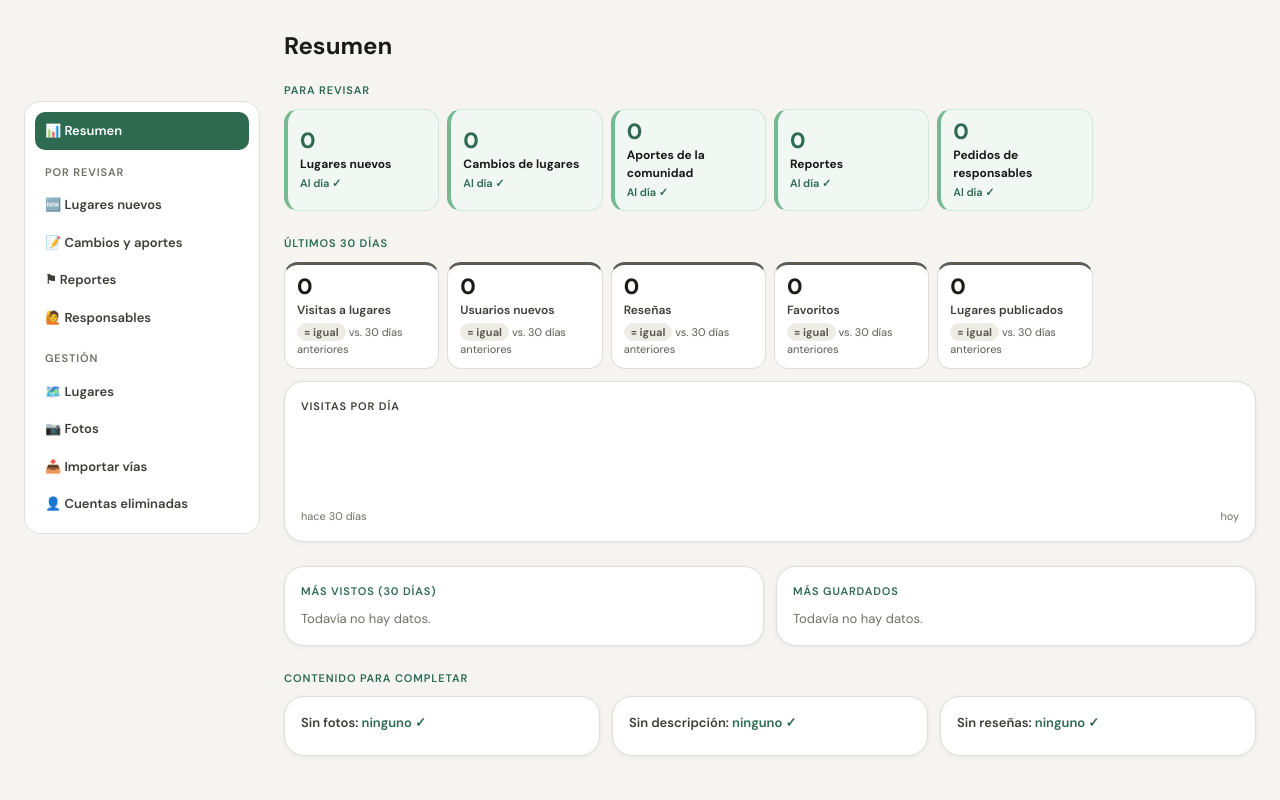
Test: Panel de admin: si una acción falla, se dice (antes la pantalla mostraba el cambio igual) › aprobar anda: pasa a aprobado, sin aviso
The image size is (1280, 800).
Click the button "🆕 Lugares nuevos": x=142, y=205 [35,186,249,224]
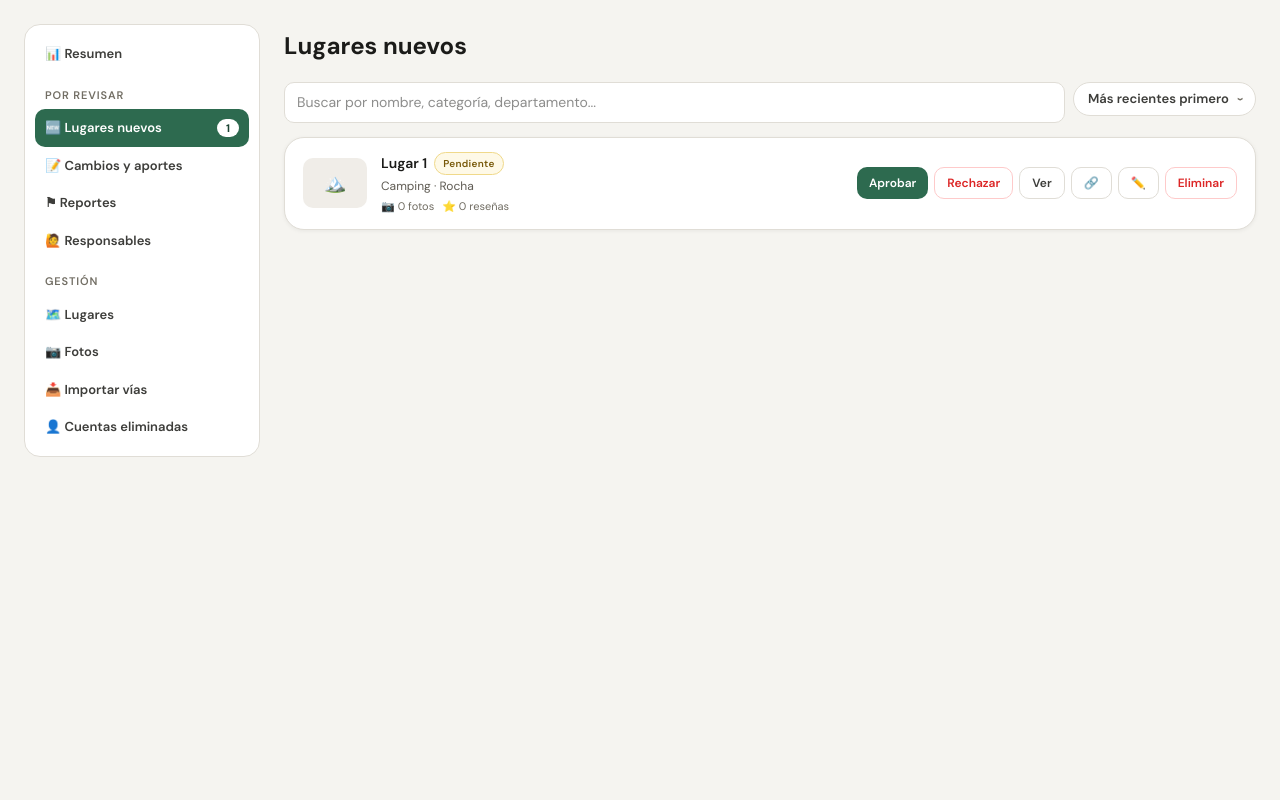
Click the button "Aprobar": x=893, y=183 [857,167,928,199]
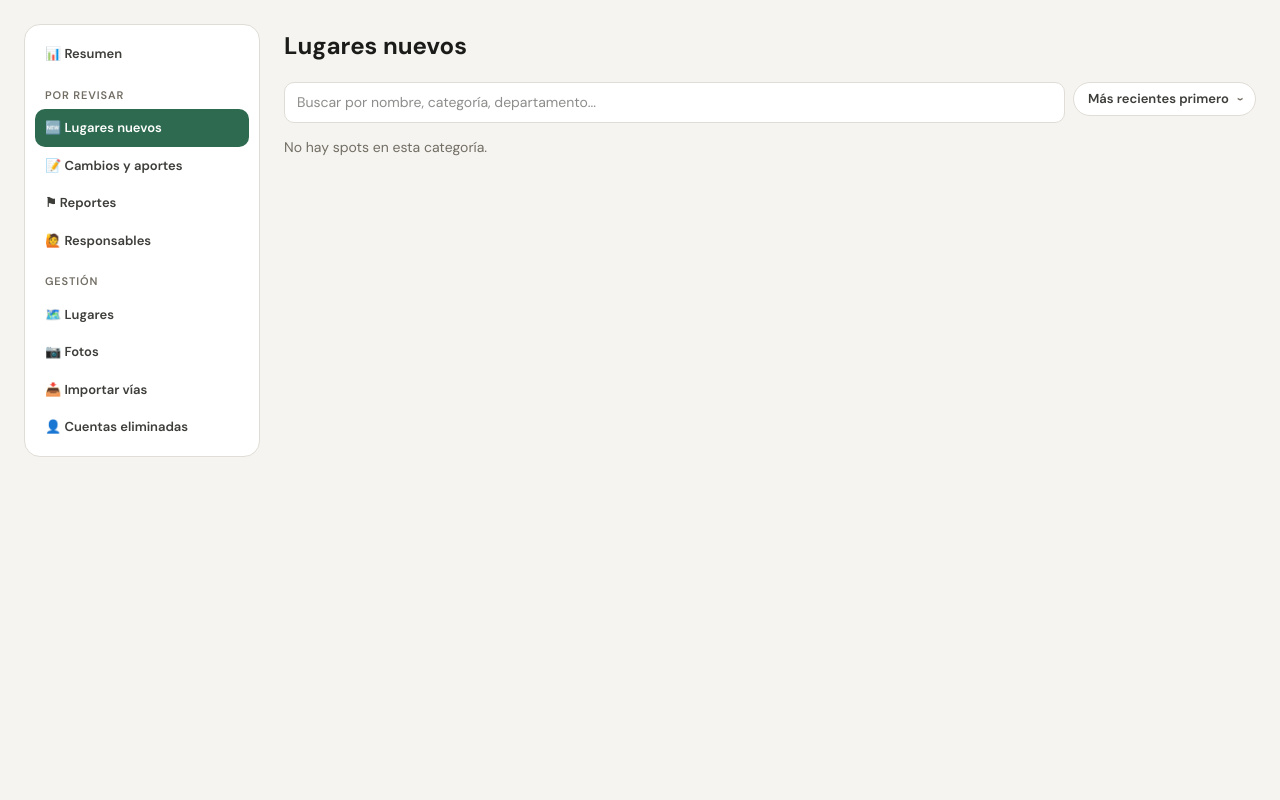
expect the text "Lugar 1" is gone: met
